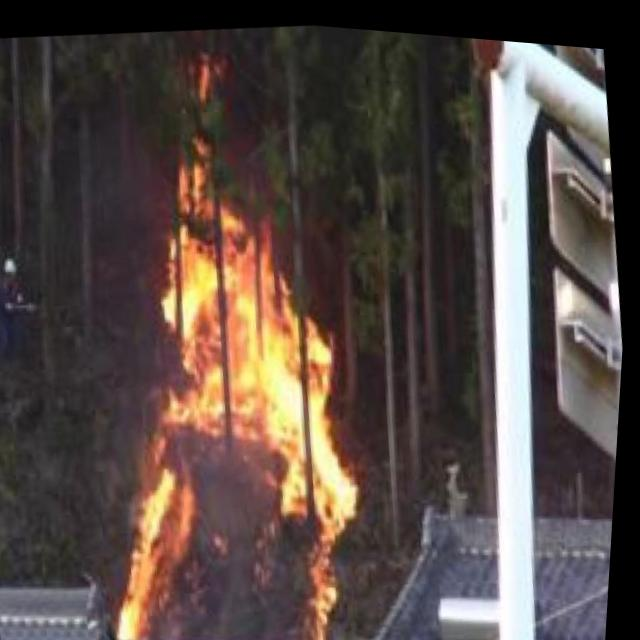Fire: (78, 147, 387, 640)
